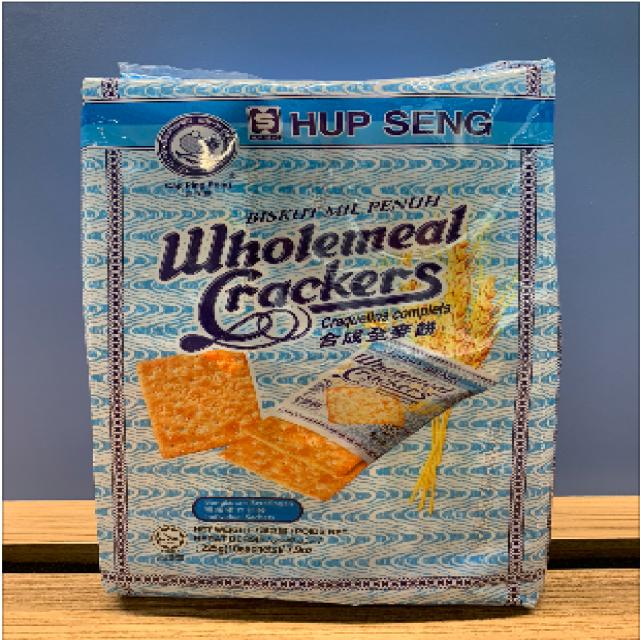object_name: (97, 84, 532, 601)
